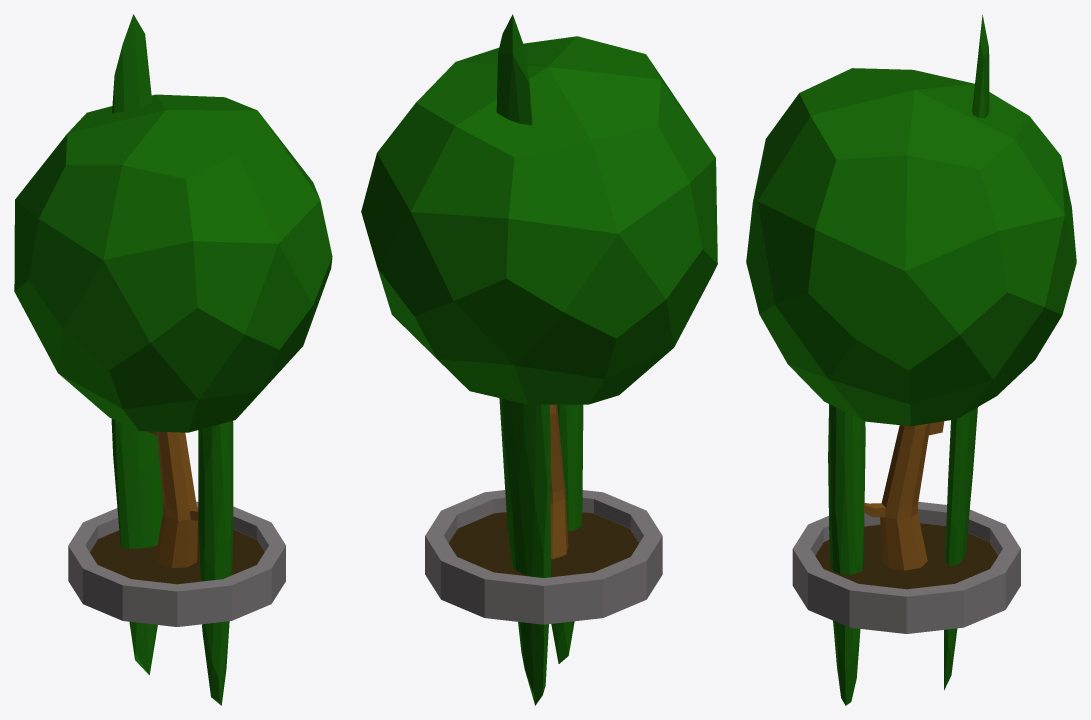
The model's file is tree.fbx.
The picture shows the model from 3 angles, left to right: view 1: azimuth 30°, elevation 25°; view 2: azimuth 150°, elevation 25°; view 3: azimuth 270°, elevation 25°; orthographic projection. The views are drawn at different scales.
Visible parts, largest first — view 1: tree.001, flowerbed.001, Icosphere.001, Icosphere.002, Cylinder.039; view 2: tree.001, flowerbed.001, Icosphere.001, Icosphere.002, Cylinder.039; view 3: tree.001, flowerbed.001, Icosphere.002, Cylinder.039, Icosphere.001.
Part boxes in pixels (box(x1,y1,x2,y2)): tree.001: box(14, 94, 332, 432); flowerbed.001: box(68, 501, 285, 626); Icosphere.001: box(111, 14, 163, 674); Icosphere.002: box(198, 421, 233, 705); Cylinder.039: box(147, 431, 198, 567); tree.001: box(361, 36, 717, 404); flowerbed.001: box(425, 490, 662, 624); Icosphere.001: box(496, 14, 550, 705); Icosphere.002: box(551, 404, 583, 663); Cylinder.039: box(549, 404, 568, 559); tree.001: box(746, 68, 1076, 426); flowerbed.001: box(792, 501, 1020, 633); Icosphere.002: box(828, 404, 865, 705); Cylinder.039: box(863, 421, 944, 570); Icosphere.001: box(944, 15, 989, 690).
Size of the model in its own units: 97.39 by 214 by 94.34.
1 material, 1 textured.
